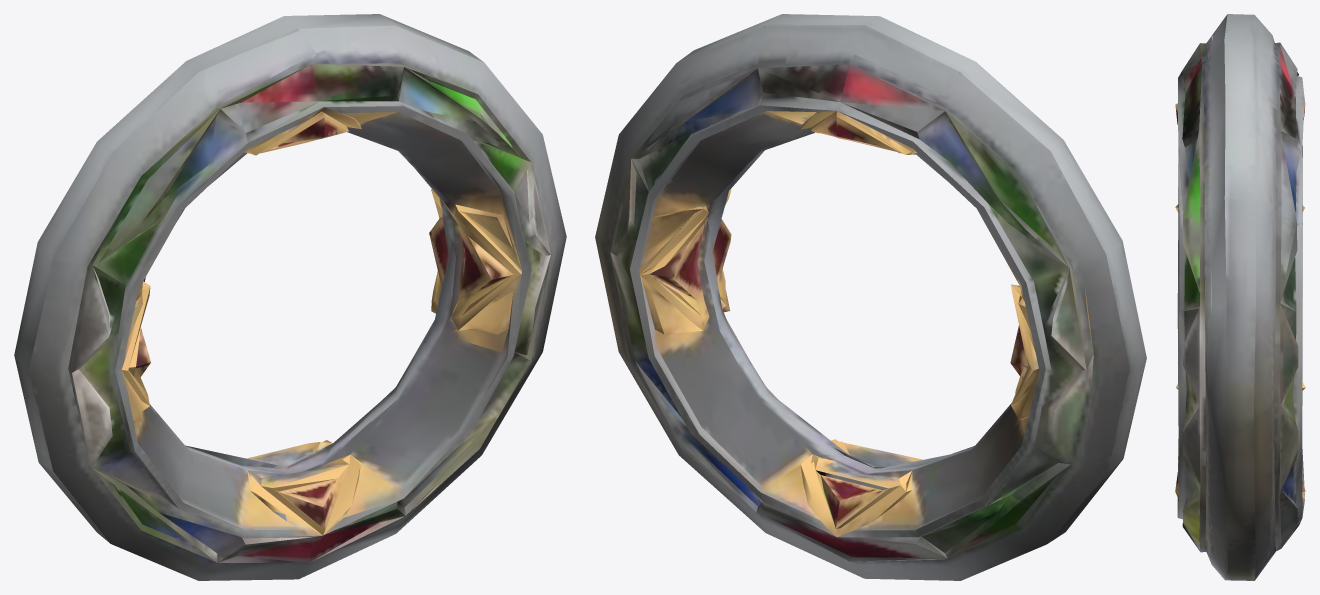
File: 孫尚香_乾坤圈.glb
3 renders of one model, left to right at view 1: azimuth 30°, elevation 25°; view 2: azimuth 150°, elevation 25°; view 3: azimuth 270°, elevation 25°, orthographic. The views are drawn at different scales.
Parts seen in each view (by area): view 1: geometry_0; view 2: geometry_0; view 3: geometry_0.
Boxes of the visible parts, bbox=[...] form: geometry_0: bbox=[14, 14, 566, 580]; geometry_0: bbox=[595, 14, 1146, 580]; geometry_0: bbox=[1175, 14, 1305, 580].
Size of the model in its own units: 0.9981 by 0.9826 by 0.2238.
Materials: 1 (1 with a texture image).
